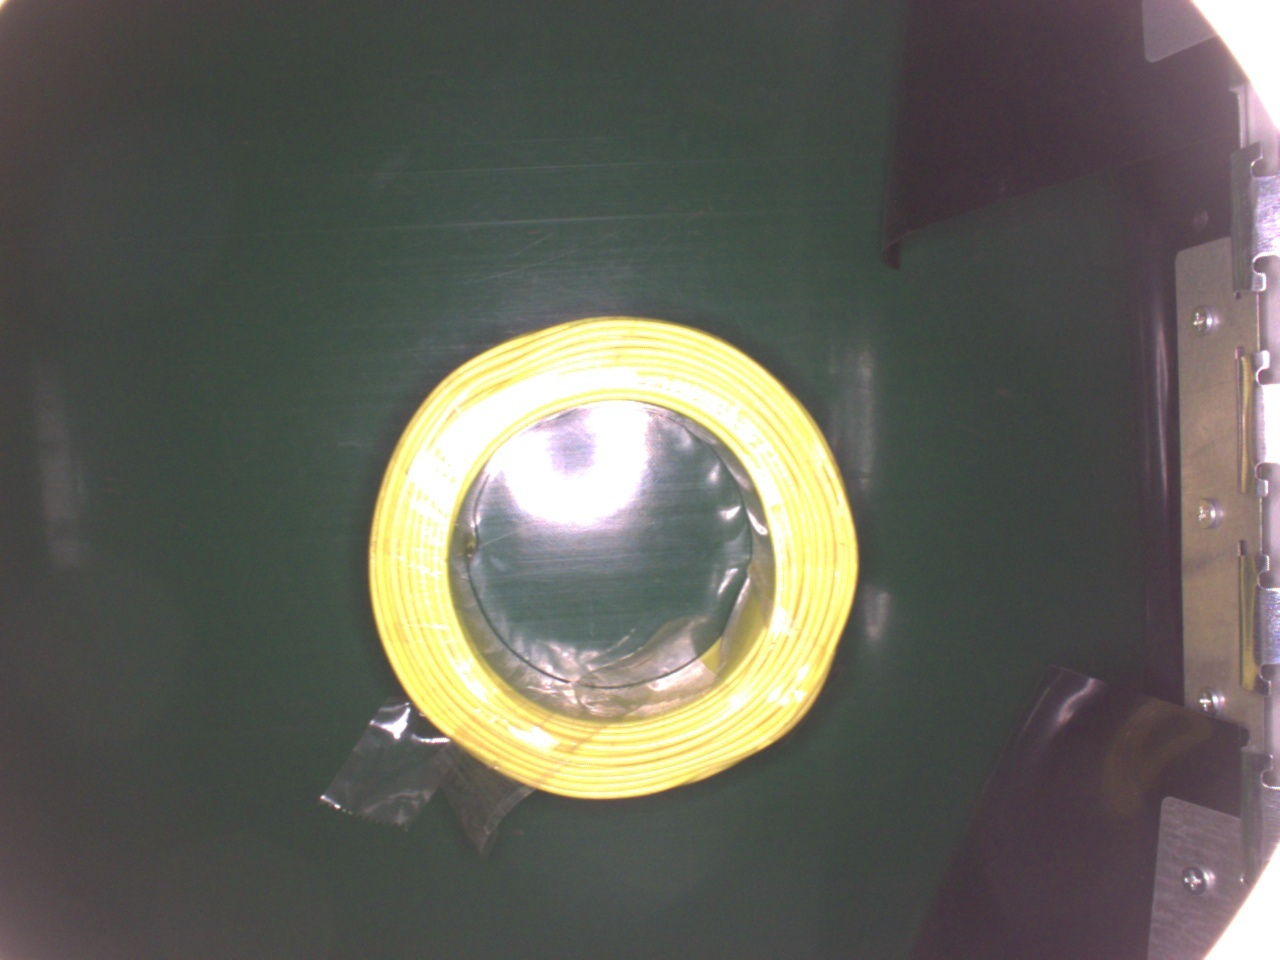yellow: (365, 311, 857, 801)
